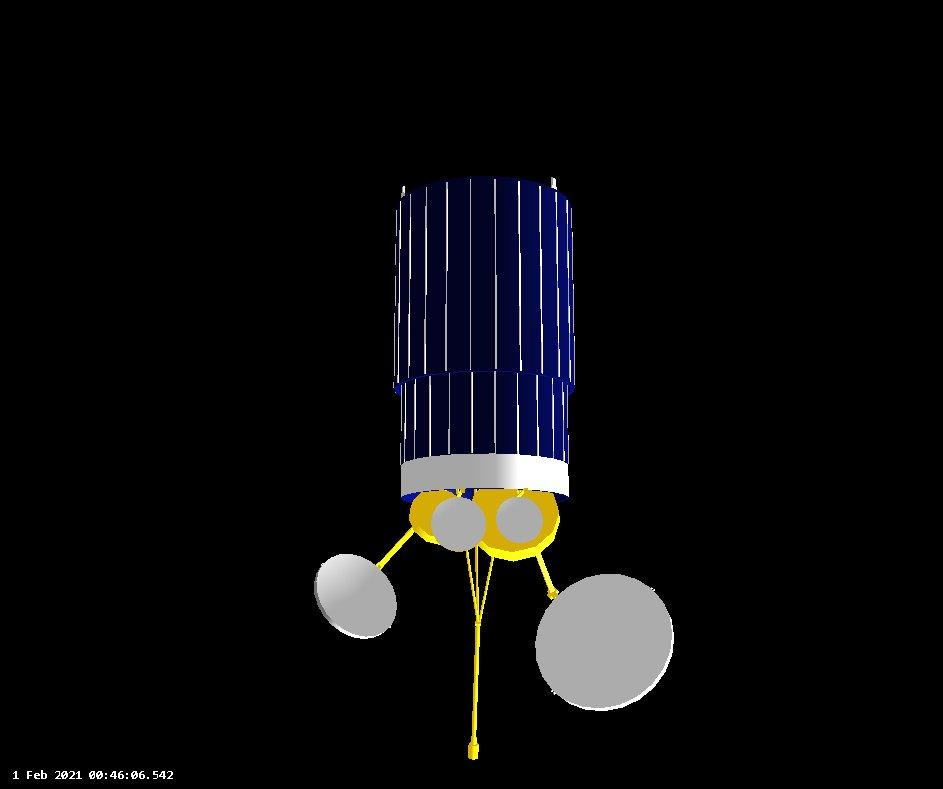antenna: (533, 568, 680, 718), (454, 553, 496, 768), (313, 550, 399, 643), (470, 487, 563, 561), (407, 485, 464, 546), (432, 495, 489, 553), (495, 497, 546, 546)
body: (382, 169, 579, 502)
solar: (389, 173, 579, 463)
